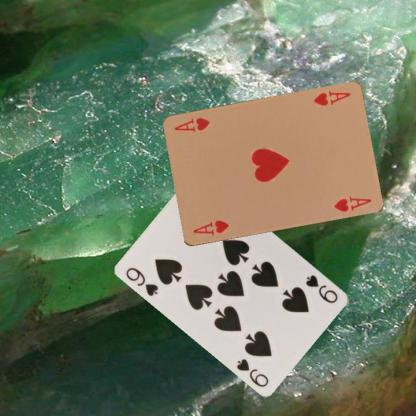9s: (123, 264, 160, 298), (303, 272, 340, 304)
Ah: (311, 88, 352, 107), (190, 218, 230, 237)
